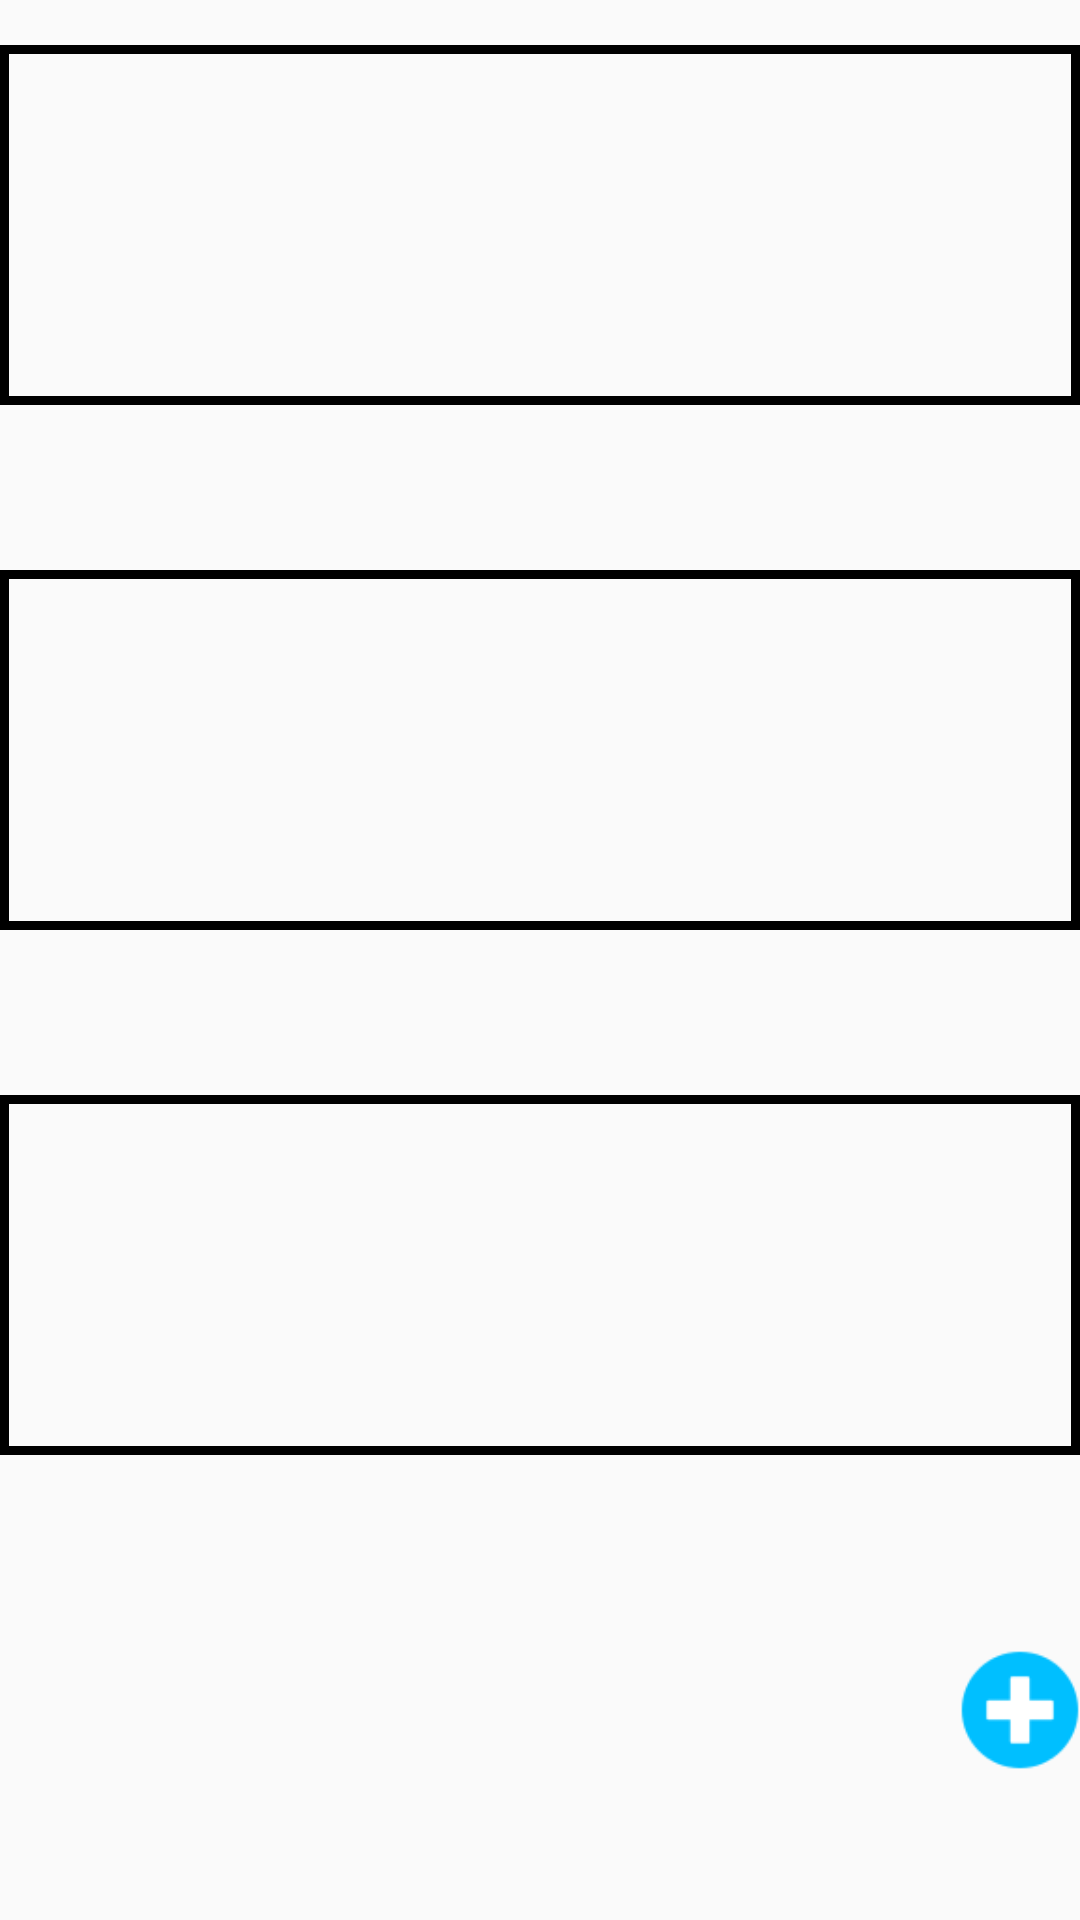

Where to tap for icons on this 1080px x 1920px app screen, as point (x, y):
addicon: point (1020, 1710)
